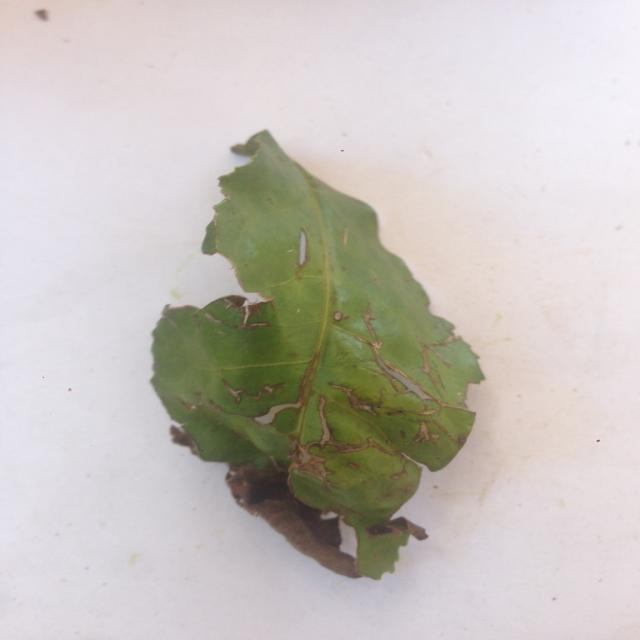Brown Blight: (134, 124, 491, 584)
